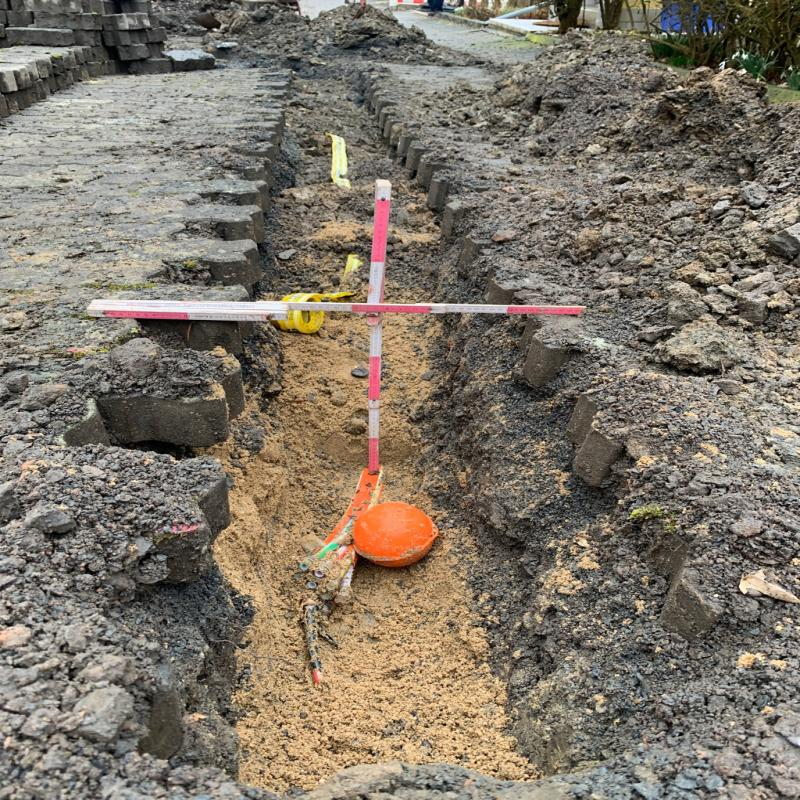Kugelmarker: (352, 502, 436, 567)
Orang-Speednetrohrchen: (293, 466, 386, 605)
